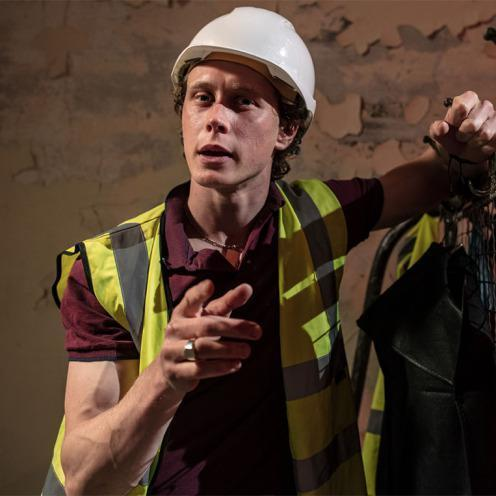helmet: (169, 5, 318, 120)
